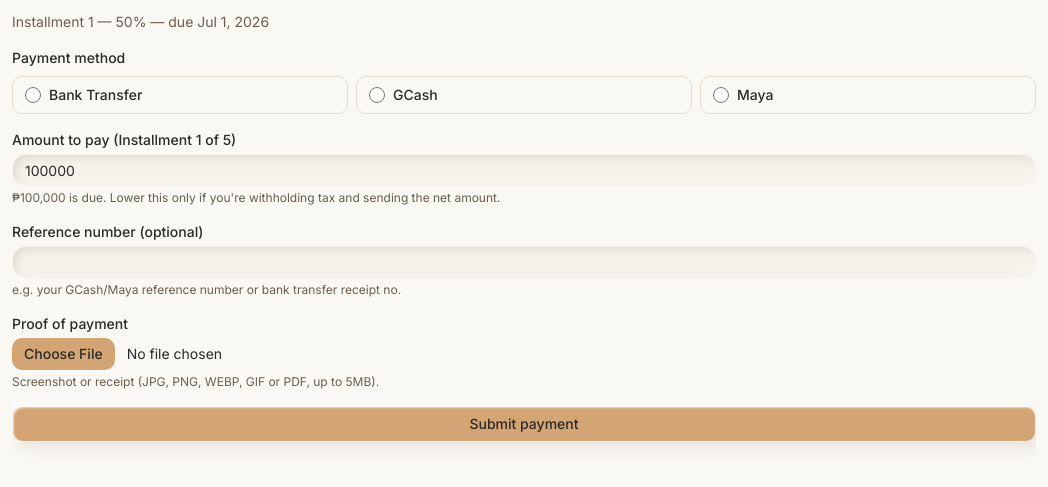
PaymentForm — withholding-tax amounts › rejects an amount above the installment total on submit
Replace the text in the field labelled "Amount to pay (Installment 1 of 5)" with "120000" at (524, 170), box x1=12 y1=154 x2=1036 y2=186
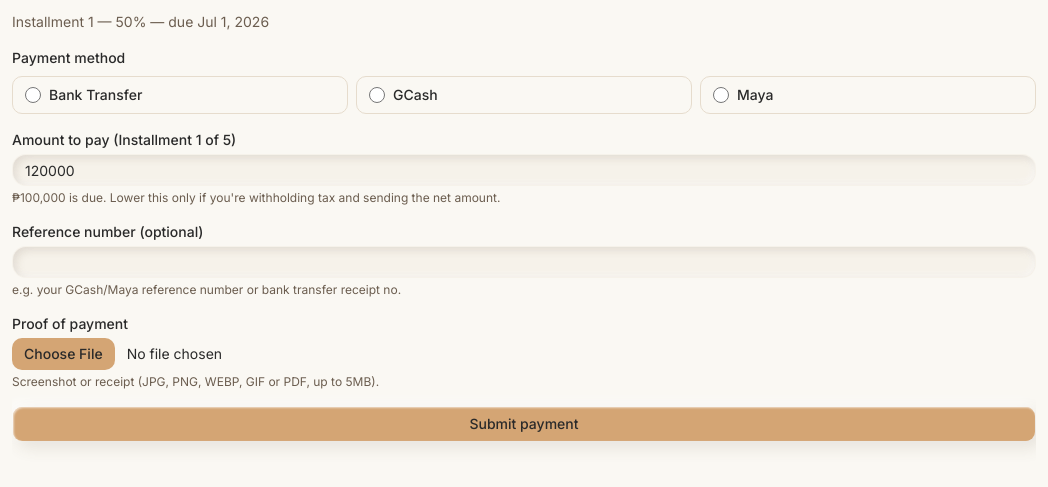
Submit the form from the button "Submit payment", box x1=12 y1=406 x2=1036 y2=442
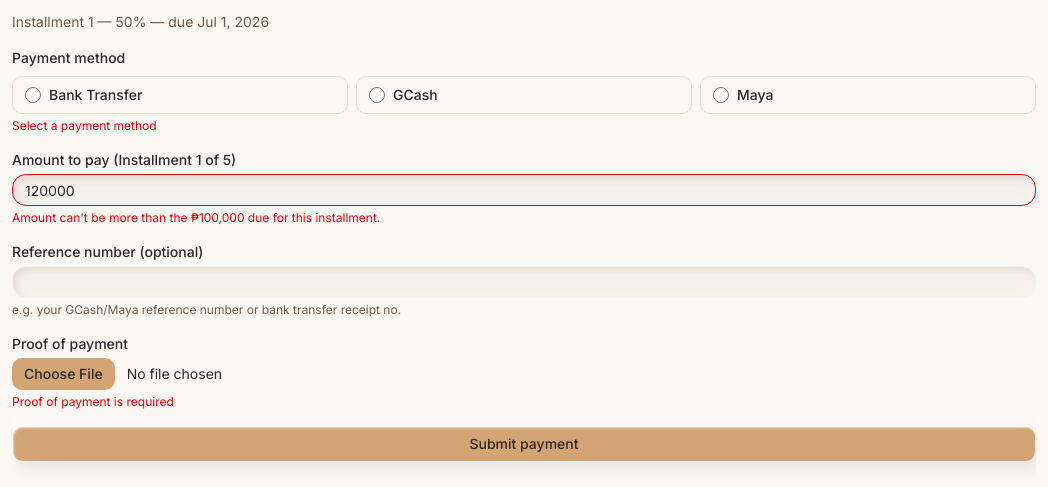
Expected: the text "can't be more than" is shown, x1=12 y1=210 x2=380 y2=225
